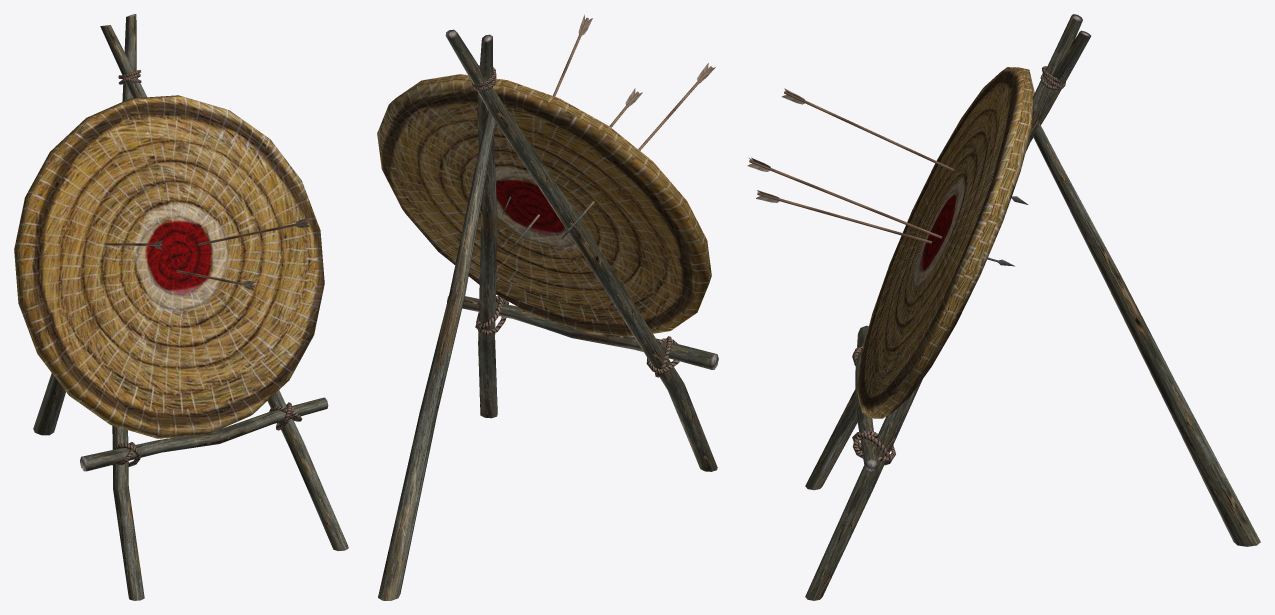
The model's file is target_archery.glb.
The picture shows the model from 3 angles, left to right: view 1: azimuth 30°, elevation 25°; view 2: azimuth 150°, elevation 25°; view 3: azimuth 270°, elevation 25°; orthographic projection. The views are drawn at different scales.
Parts seen in each view (by area): view 1: TargetArchery; view 2: TargetArchery; view 3: TargetArchery.
Part boxes in pixels (x1,y1,x2,y2): TargetArchery: (14, 14, 348, 600); TargetArchery: (377, 14, 718, 600); TargetArchery: (747, 14, 1260, 600).
Size of the model in its own units: 122 by 182 by 163.
Materials: 2 (2 with a texture image).
